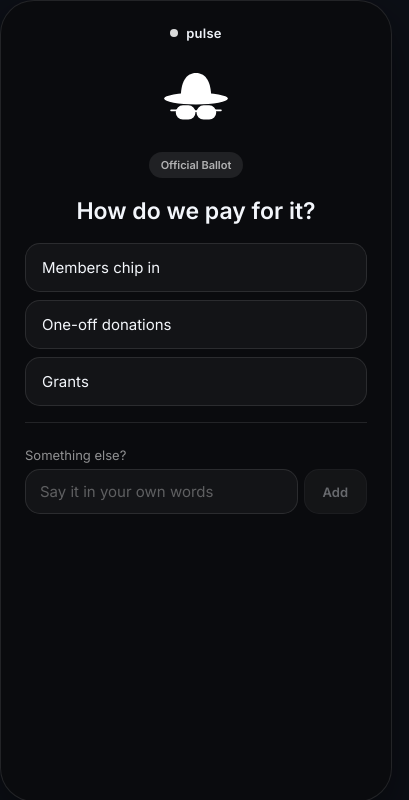
saying something the poll did not offer › says so quietly when nobody had said it
Type "Sell merchandise" into the field labelled "Something else?" at coordinates (161, 492), box x1=25 y1=469 x2=298 y2=514
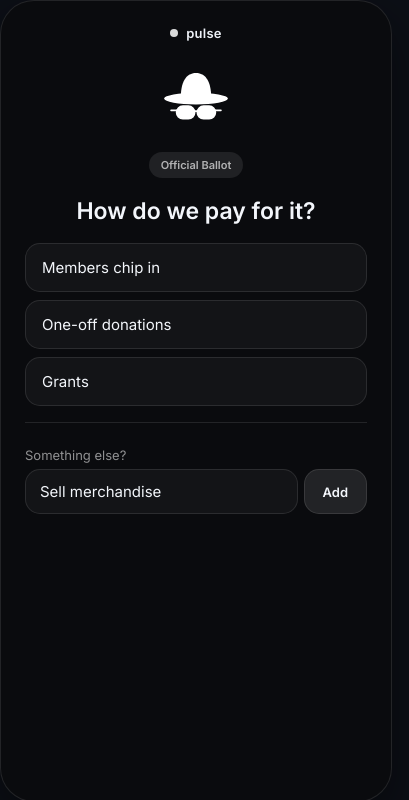
Click the button "Add" at coordinates (335, 492), box x1=304 y1=469 x2=367 y2=514
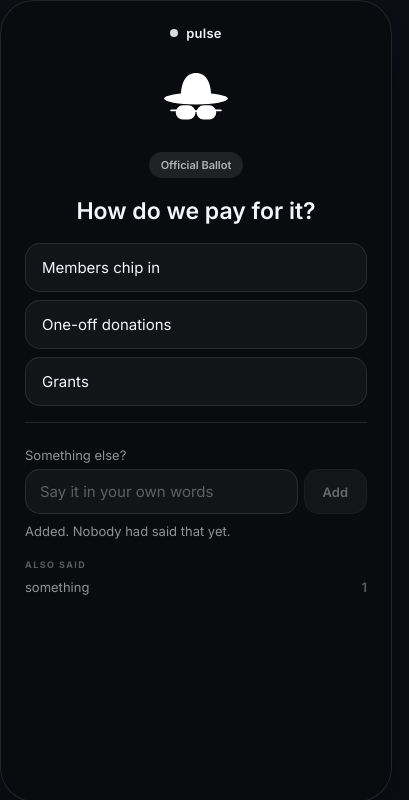
Now the text "Added. Nobody had said that yet." is shown, box x1=25 y1=523 x2=230 y2=539
